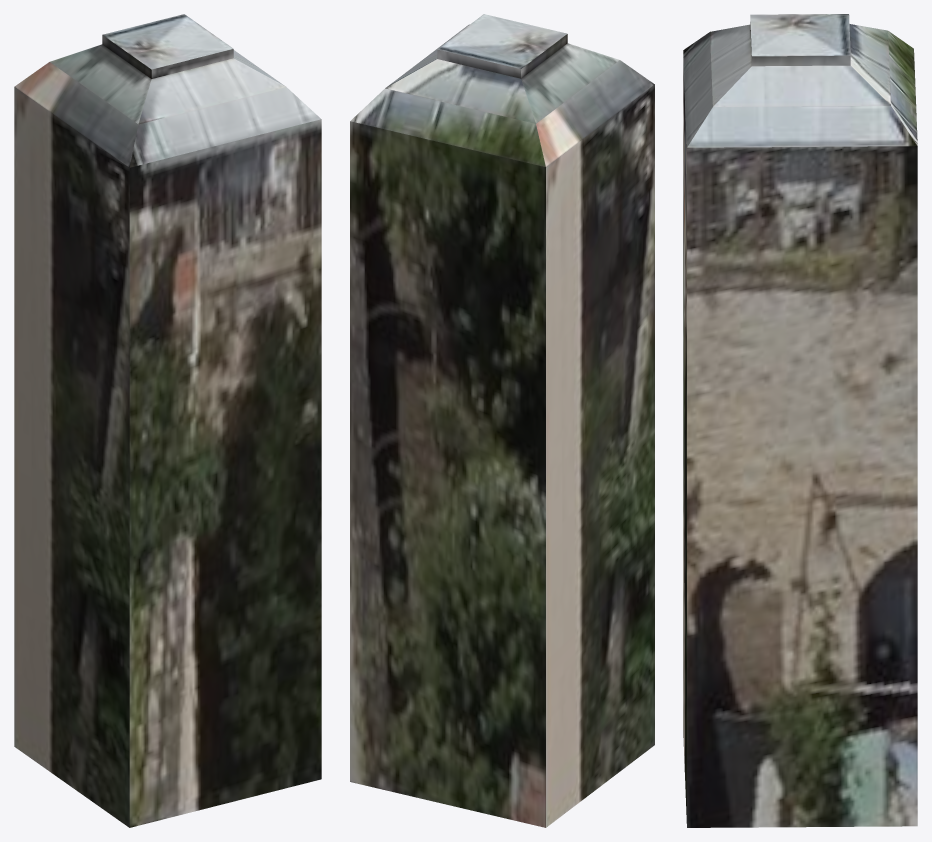
3 views of the same model, side by side, from view 1: azimuth 30°, elevation 25°; view 2: azimuth 150°, elevation 25°; view 3: azimuth 270°, elevation 25° (orthographic). The views are drawn at different scales.
Parts seen in each view (by area): view 1: Z_UP; view 2: Z_UP; view 3: Z_UP.
Part boxes in pixels (x1,y1,x2,y2): Z_UP: (14,14,321,827); Z_UP: (350,14,654,827); Z_UP: (683,14,917,827).
Size of the model in its own units: 3.4 by 11.88 by 3.4.
Materials: 2 (1 with a texture image).
